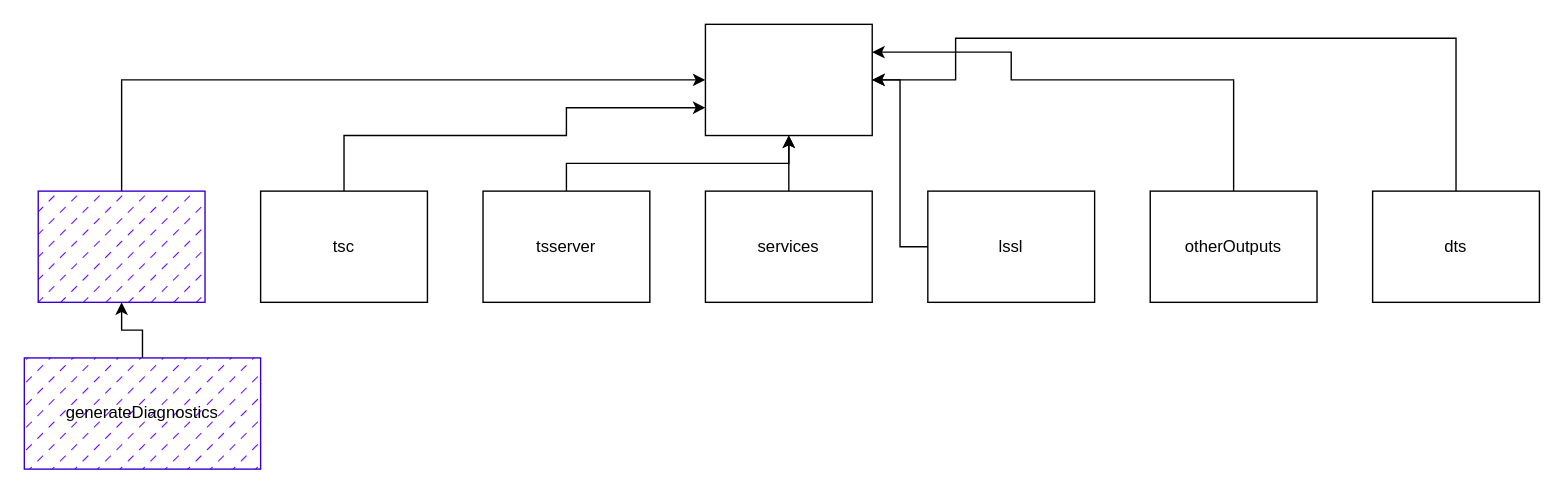
This 1564x493 diagram has some shape labels left out. The shapes that lost their labels are listed below. From the top down, each one's centre as x and y in pixels, then its label:
point (788, 79): local
point (121, 246): localize
